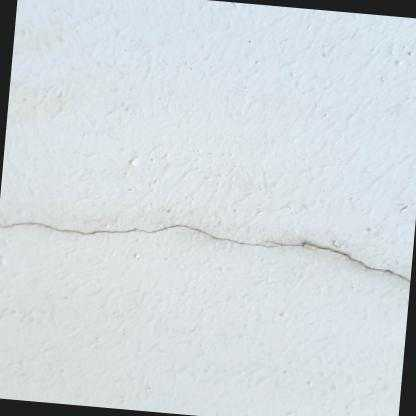crack: (0, 220, 277, 247), (260, 239, 411, 282)
